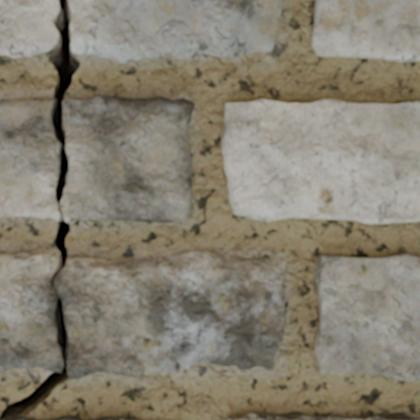brick: (222, 99, 419, 223), (315, 253, 419, 380), (312, 0, 419, 61), (227, 412, 419, 419), (95, 416, 132, 419), (51, 416, 79, 419), (6, 417, 28, 419)
broken_brick: (57, 250, 286, 379), (61, 94, 193, 224), (70, 0, 282, 63), (0, 248, 62, 373), (0, 97, 60, 221), (0, 0, 57, 58)
crack: (0, 0, 80, 419)
